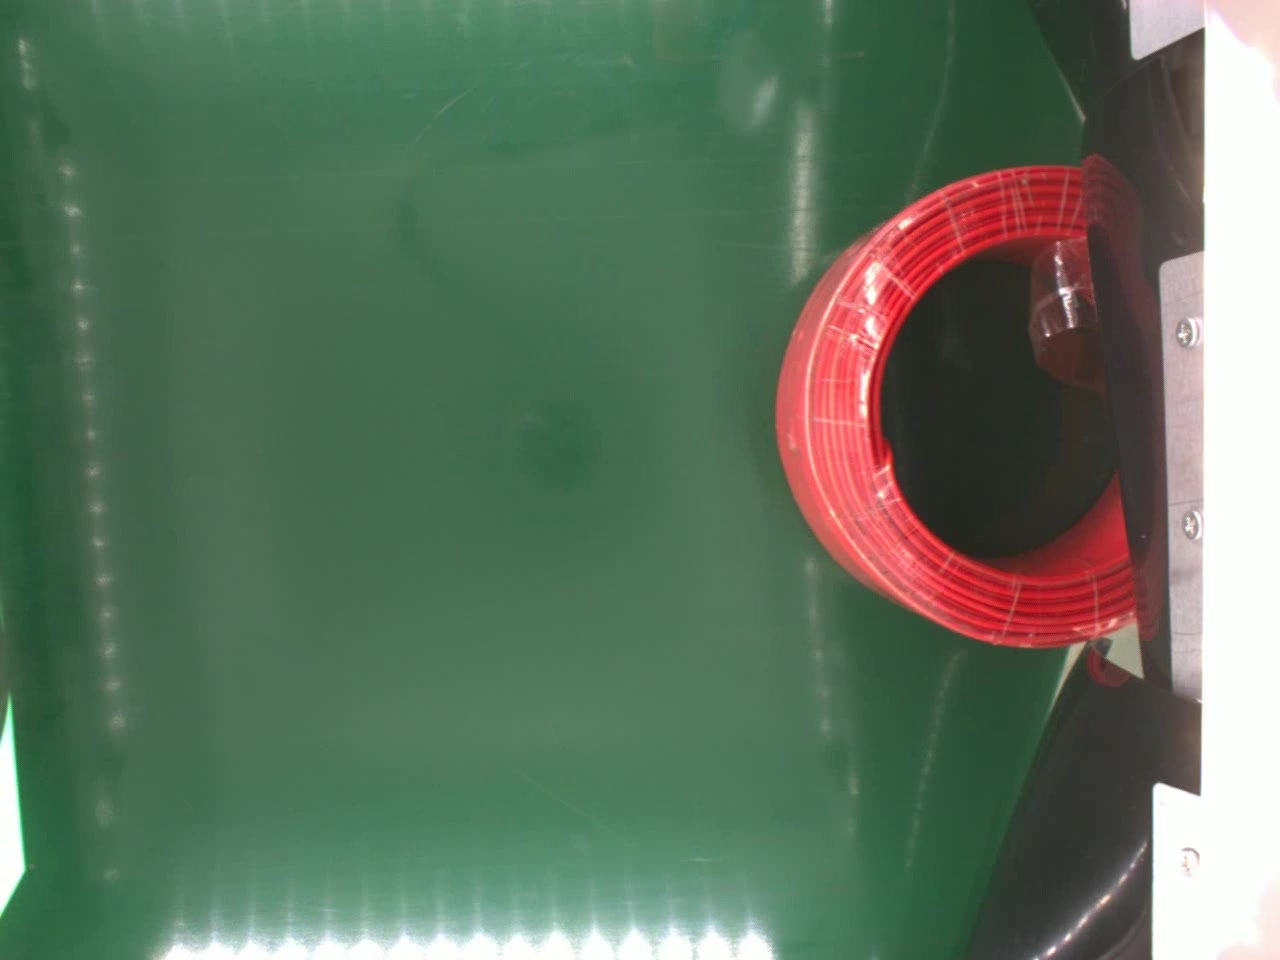red: (771, 160, 1140, 646)
